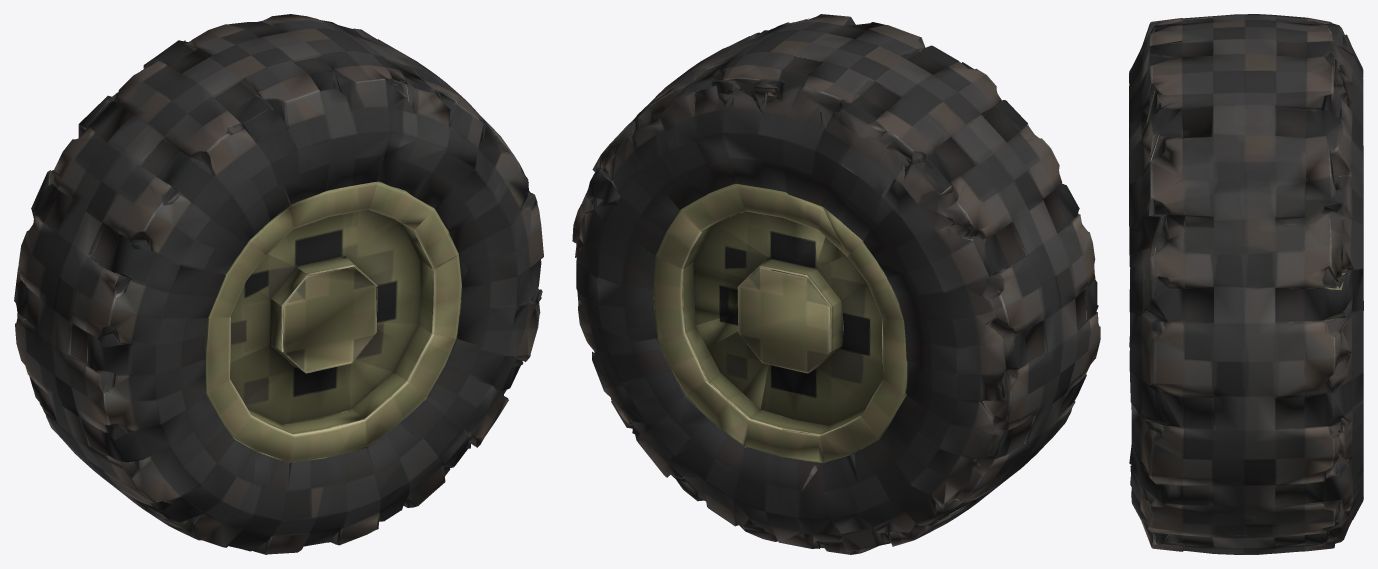
File: Desert_Recon_Buggy_Tire.glb
The picture shows the model from 3 angles, left to right: view 1: azimuth 30°, elevation 25°; view 2: azimuth 150°, elevation 25°; view 3: azimuth 270°, elevation 25°; orthographic projection. The views are drawn at different scales.
Bounding box in the file's own units: 0.9561 × 0.9497 × 0.4136.
1 material, 1 textured.
